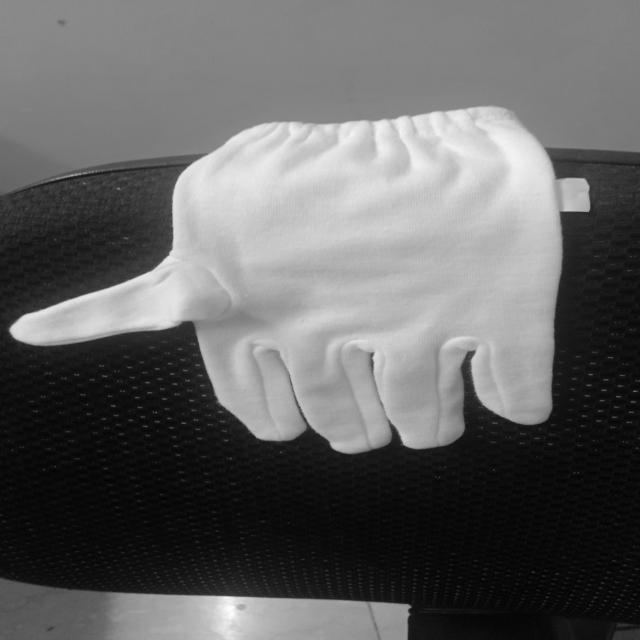Gloves: (11, 114, 560, 457)
